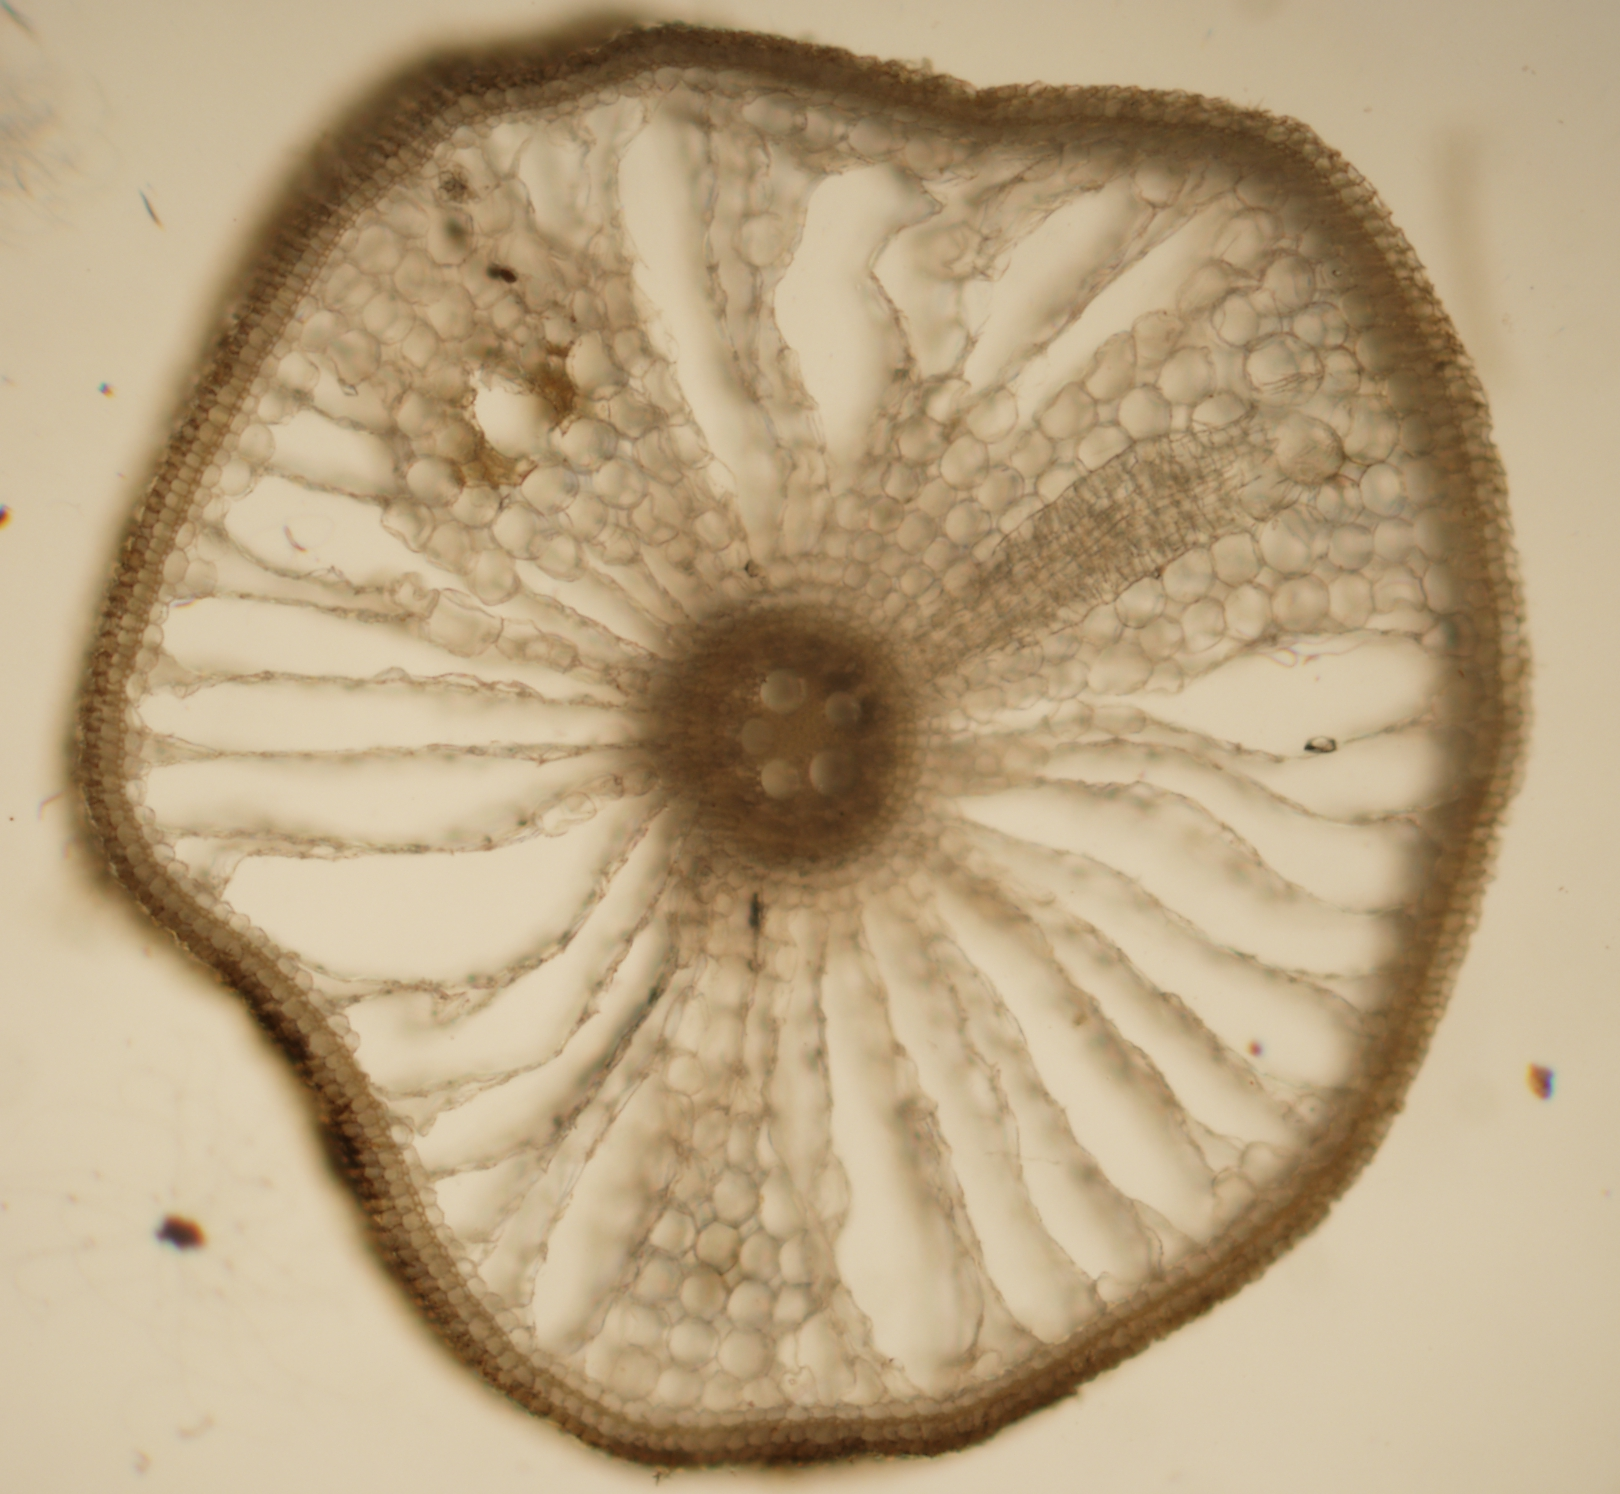lm: (809, 748, 857, 797), (761, 669, 809, 714), (761, 758, 802, 800), (824, 690, 861, 729), (741, 718, 778, 756)
